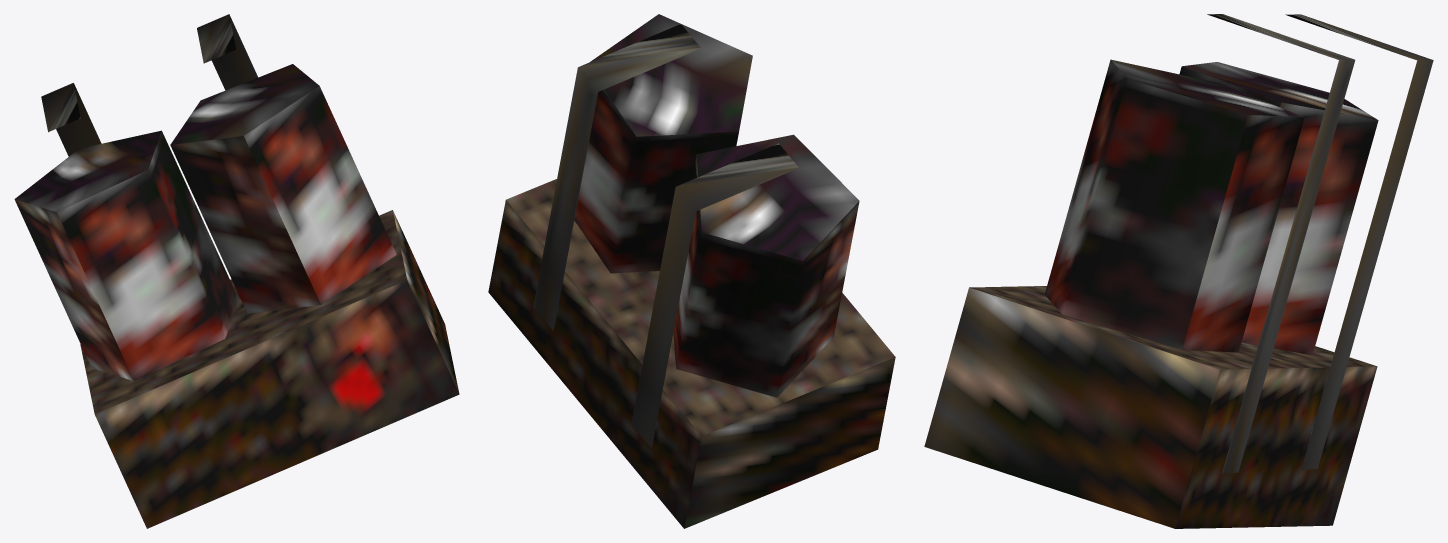
File: SEC.obj
The picture shows the model from 3 angles, left to right: view 1: azimuth 30°, elevation 25°; view 2: azimuth 150°, elevation 25°; view 3: azimuth 270°, elevation 25°; orthographic projection. The views are drawn at different scales.
Parts seen in each view (by area): view 1: cube1; view 2: cube1; view 3: cube1.
Boxes of the visible parts, <box> form: cube1: <box>14,14,459,528</box>; cube1: <box>488,14,895,528</box>; cube1: <box>924,14,1433,528</box>.
Size of the model in its own units: 19.5 by 21.71 by 18.42.
